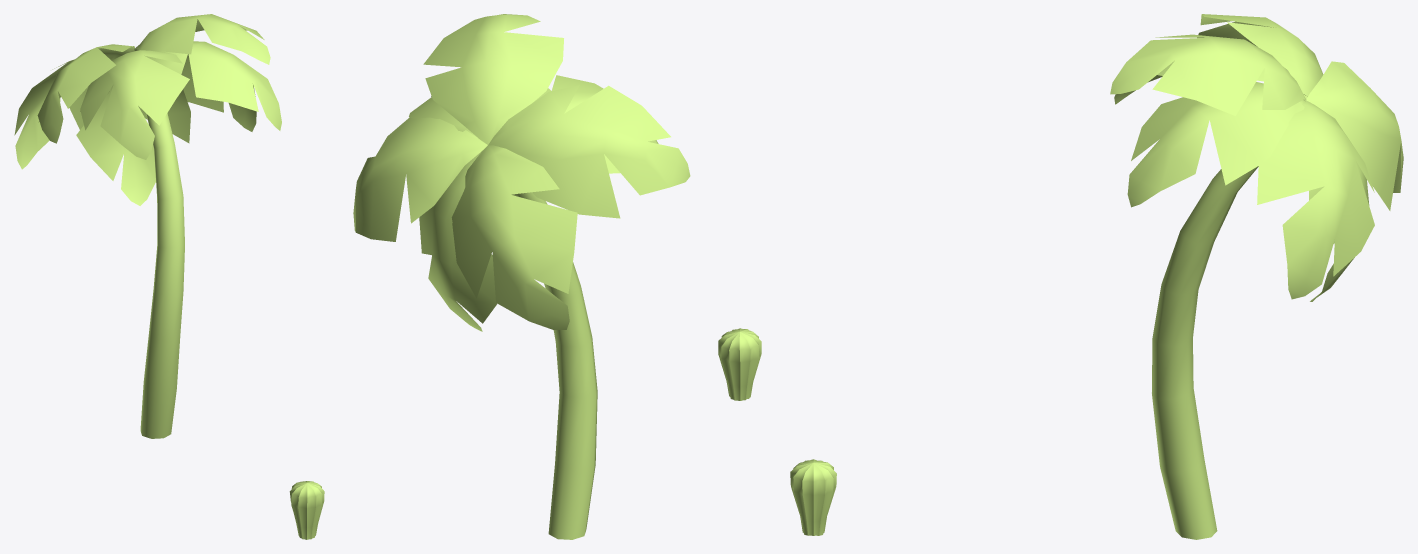
Rendered from Floral.fbx.
3 views of the same model, side by side, from view 1: azimuth 30°, elevation 25°; view 2: azimuth 150°, elevation 25°; view 3: azimuth 270°, elevation 25° (orthographic). The views are drawn at different scales.
Parts seen in each view (by area): view 1: Palm, Cactus; view 2: Palm, Cactus; view 3: Palm, Cactus.
Boxes of the visible parts, box(x1,y1,x2,y2) form: Palm: box(14, 14, 281, 438); Cactus: box(289, 481, 324, 539); Palm: box(353, 14, 690, 539); Cactus: box(718, 328, 761, 400); Palm: box(1110, 14, 1403, 539); Cactus: box(790, 459, 836, 535).
Size of the model in its own units: 307 by 494 by 525.
Materials: 1 (1 with a texture image).
